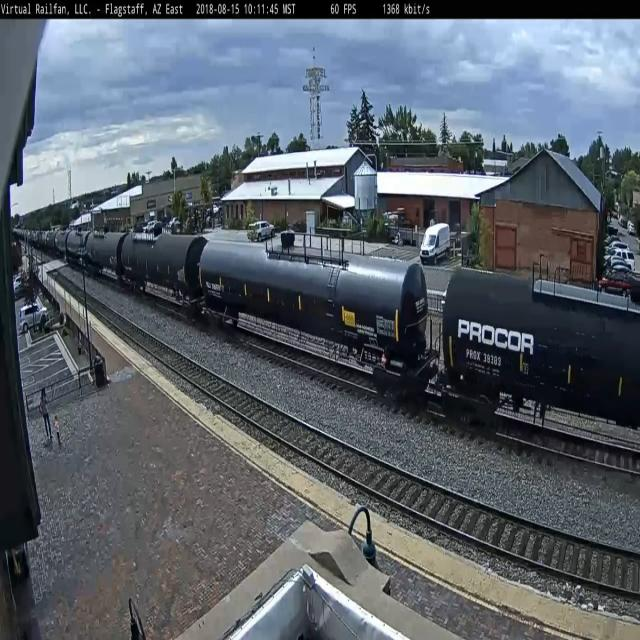tank: (194, 231, 434, 413), (432, 255, 640, 464), (118, 221, 203, 318)
